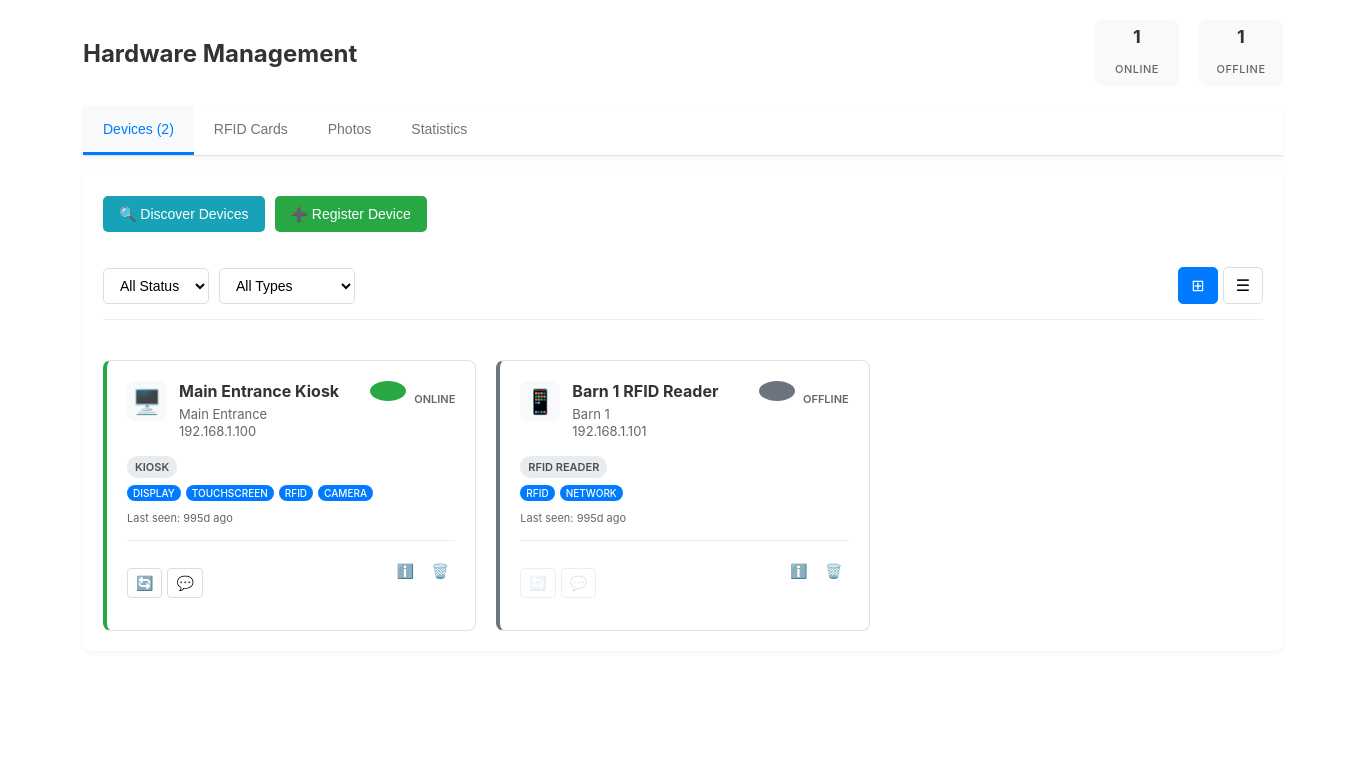
it: HardwareManagement › opens device registration modal
The width and height of the screenshot is (1366, 768).
What coordinates should you click on to do the following:
click the button "➕ Register Device"
I would click on:
 (351, 214)
Its box is x1=274 y1=196 x2=427 y2=232.
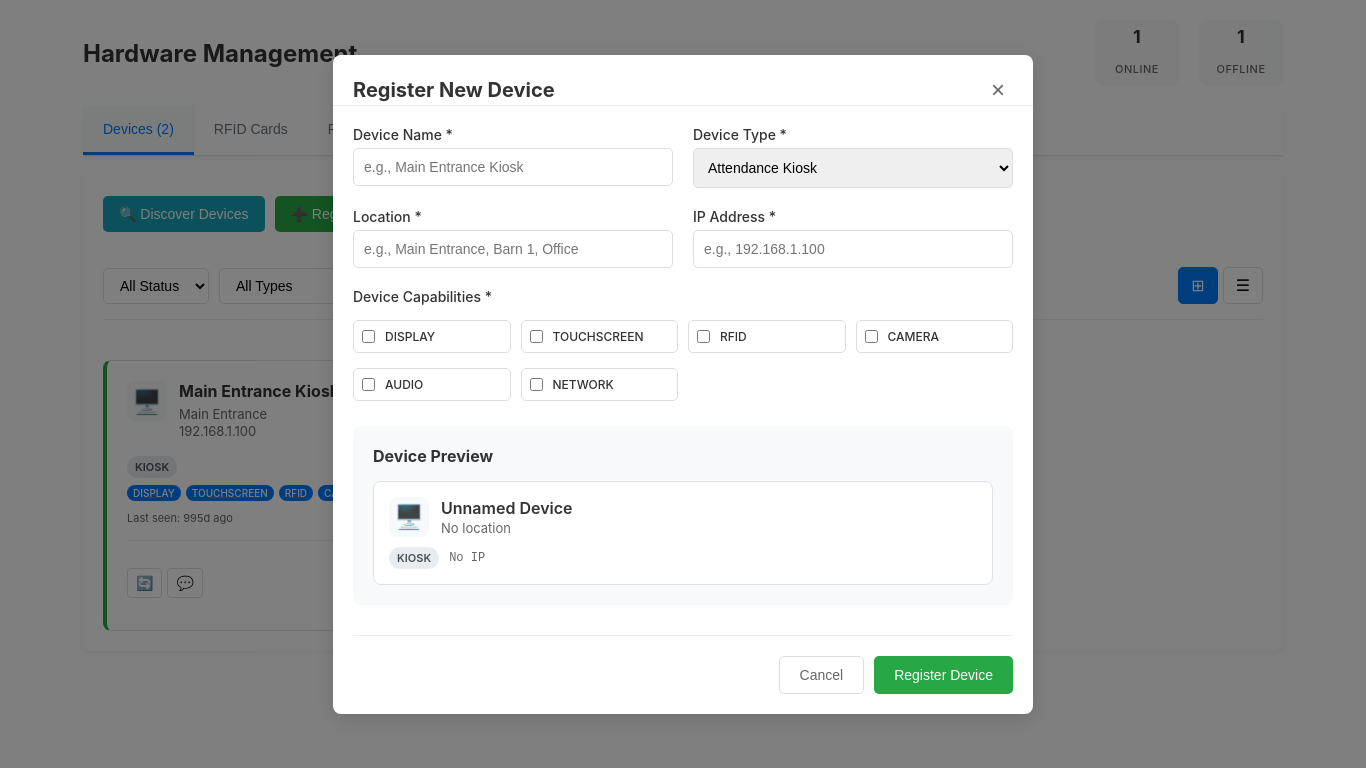
Now the heading "Register New Device" is shown, box x1=353 y1=78 x2=555 y2=102
